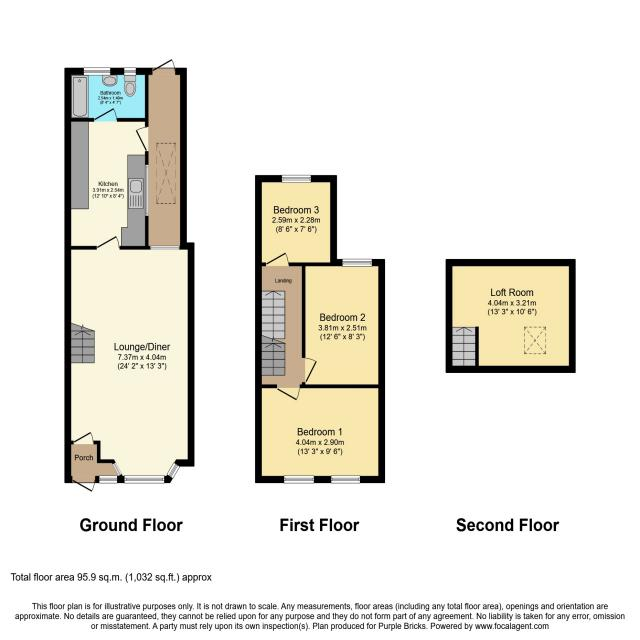DOOR: (273, 384, 302, 404), (301, 356, 318, 384), (71, 476, 97, 494), (151, 58, 176, 75), (93, 106, 119, 122), (134, 126, 149, 153), (94, 235, 120, 250), (264, 251, 290, 266), (71, 430, 94, 444)
ROOM: (445, 258, 576, 373), (255, 384, 385, 483), (64, 103, 149, 250), (301, 259, 385, 388), (255, 175, 337, 266)
WINDOW: (123, 474, 165, 484), (143, 163, 150, 218), (341, 257, 373, 269), (282, 474, 315, 485), (329, 474, 361, 485), (281, 174, 312, 184), (166, 461, 181, 480), (83, 67, 111, 76), (111, 461, 123, 477), (149, 244, 180, 250), (98, 475, 118, 484), (124, 67, 137, 76)
